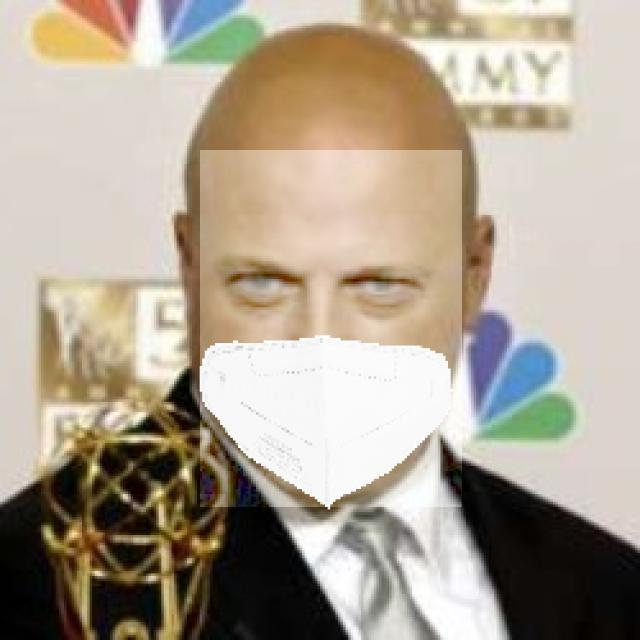kn95: (200, 150, 462, 507)
